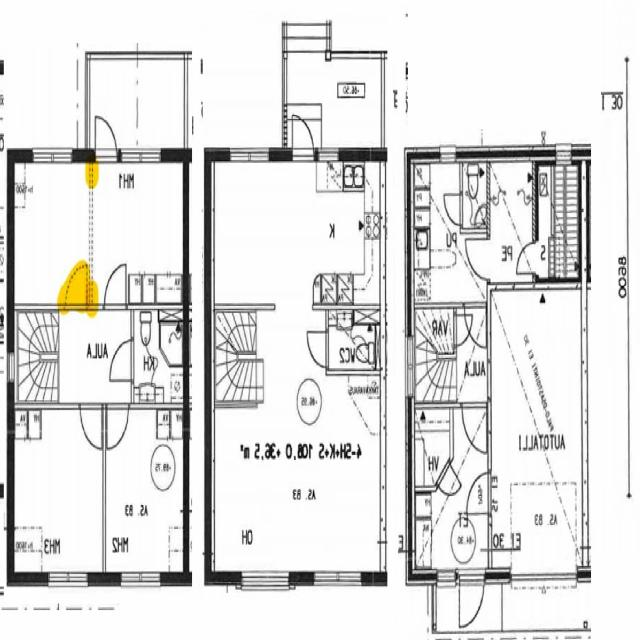door: (460, 566, 484, 630), (436, 459, 462, 506), (462, 403, 486, 452), (293, 107, 314, 162), (96, 109, 117, 162), (80, 403, 102, 449), (107, 403, 129, 449), (65, 264, 87, 310), (466, 472, 490, 514), (465, 302, 486, 348), (466, 240, 490, 280), (110, 340, 134, 380), (105, 264, 126, 309), (515, 241, 539, 274), (308, 332, 328, 366), (444, 194, 463, 225), (454, 315, 473, 346)
